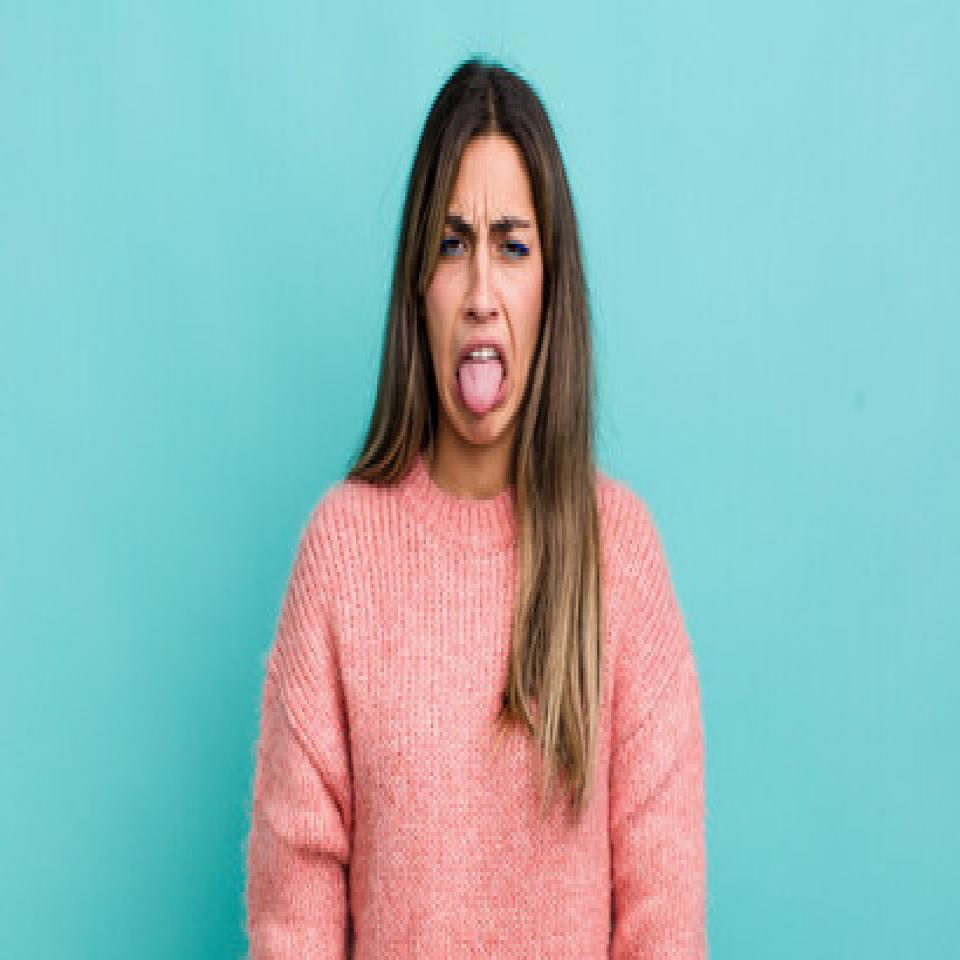Disgust: (408, 170, 546, 442)
